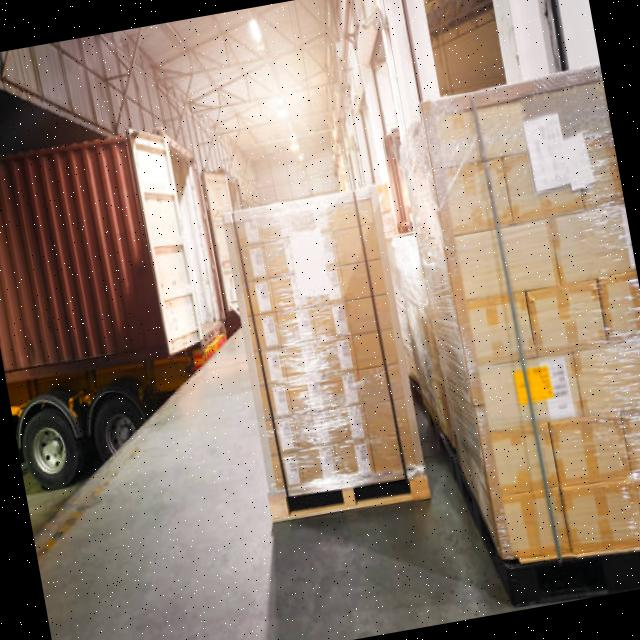Wooden-Pallets: (262, 464, 434, 526)
